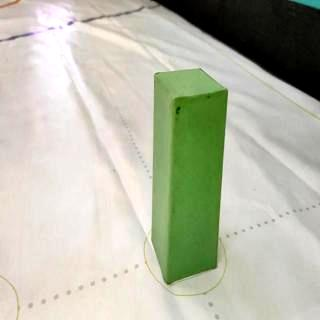greenbox: (150, 67, 230, 285)
